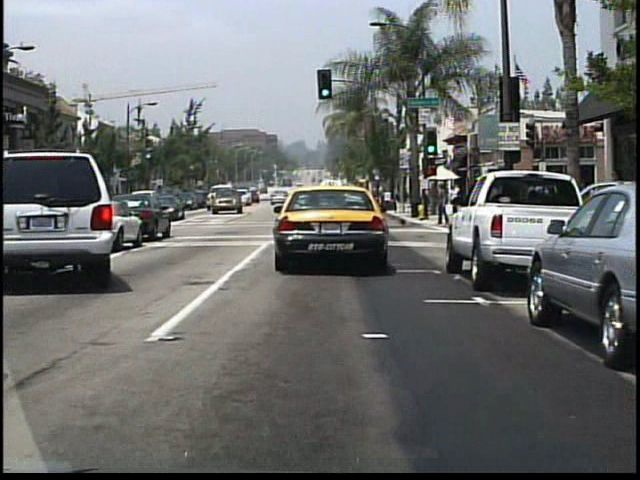person: (436, 182, 449, 225), (426, 182, 438, 216), (448, 182, 459, 208)
